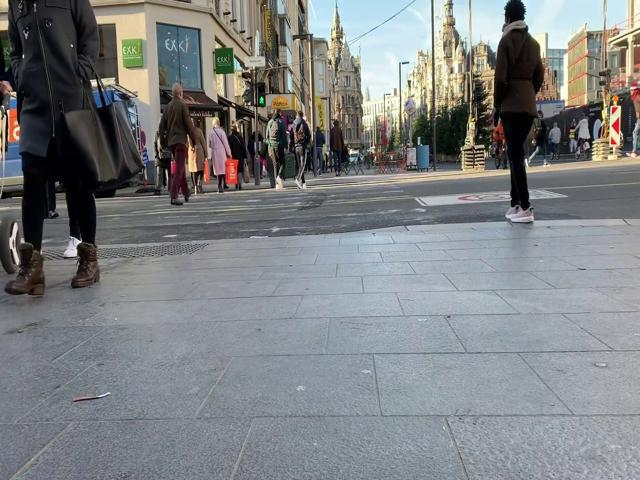shoe: (6, 242, 46, 295), (71, 243, 100, 287), (510, 207, 534, 222)
